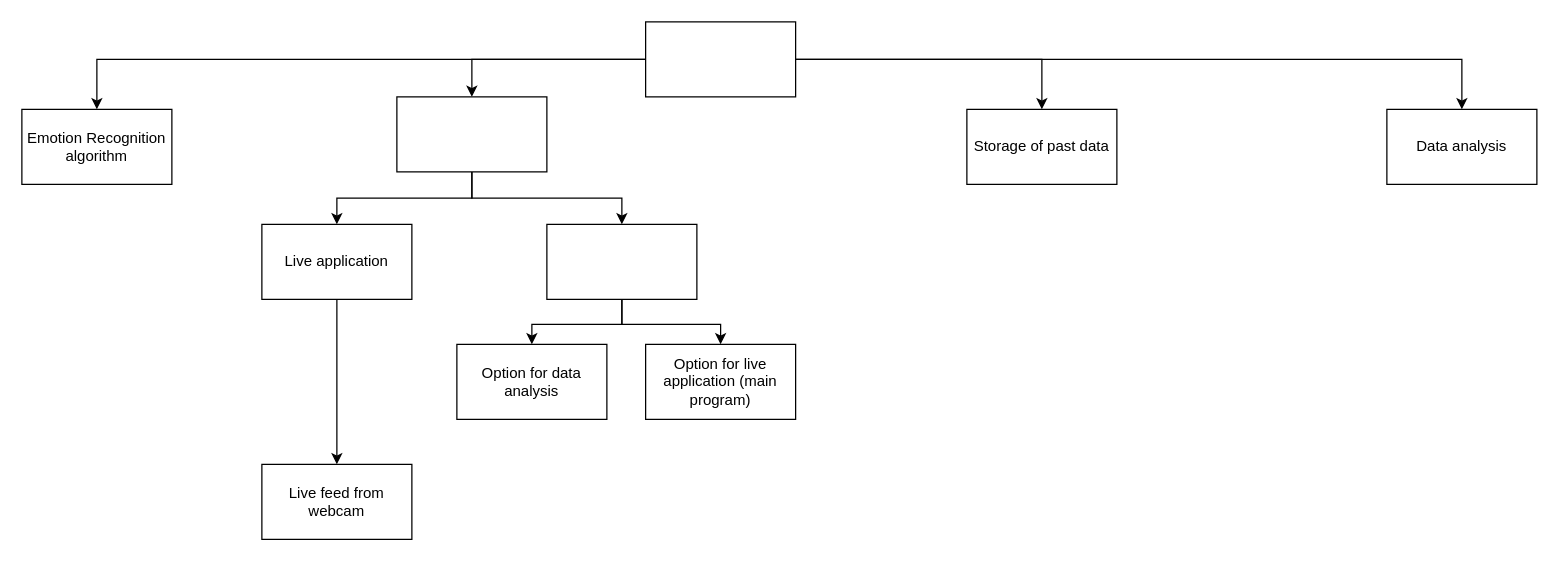
This 1559x561 diagram has some shape labels left out. Here are the shapes that lost their labels. From the top down, the centre of each, then its label:
At point 720,59: "Emotion Recognition system".
At point 471,134: "User interface".
At point 621,261: "Menu".
